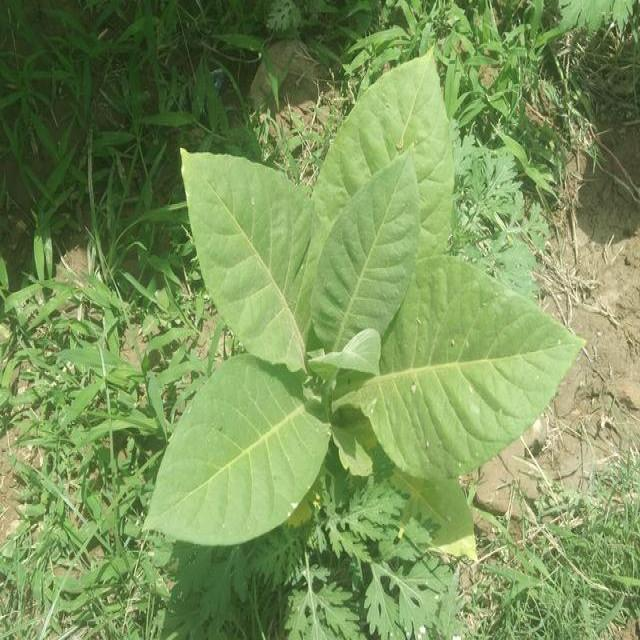crop: (150, 36, 586, 564)
